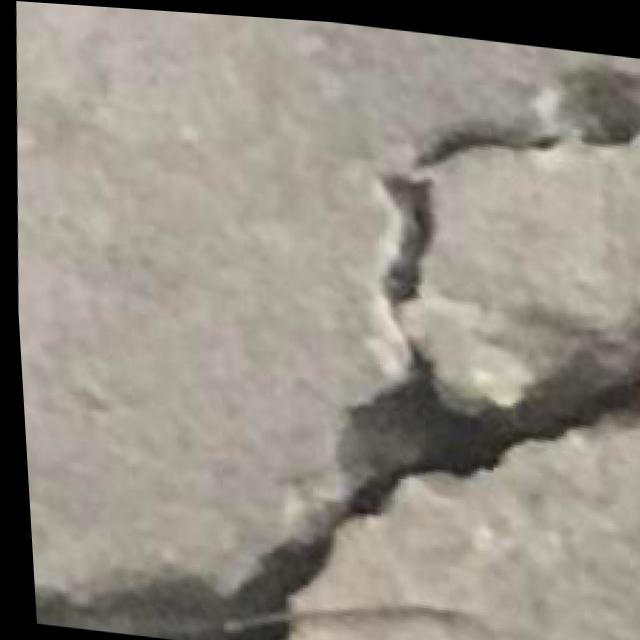Crack: (1, 15, 640, 640)
